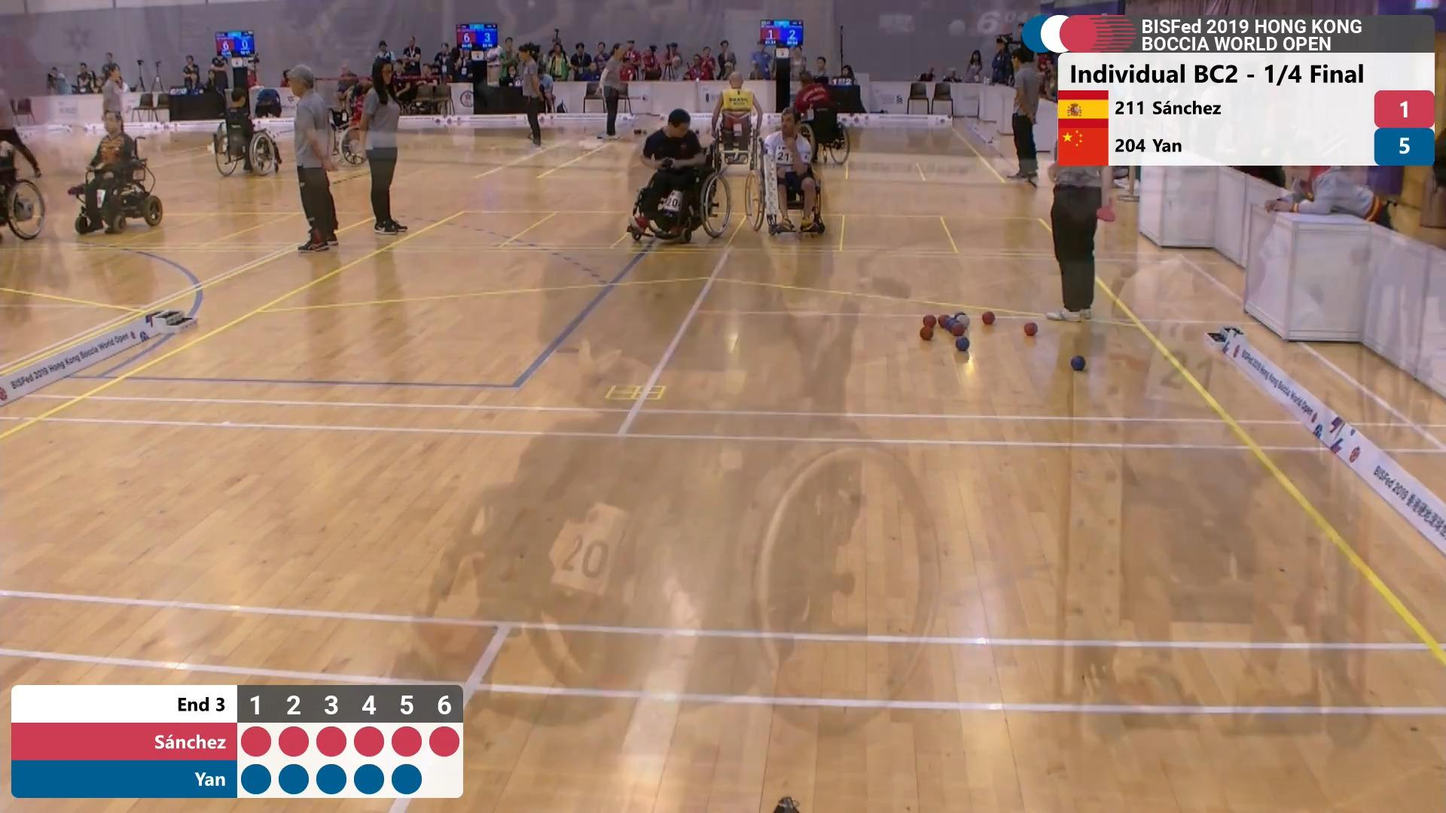blue_ball: (1070, 354, 1087, 372), (954, 335, 971, 352)
red_ball: (919, 325, 935, 341), (981, 310, 996, 325), (1024, 322, 1038, 337), (950, 323, 965, 336), (922, 315, 937, 327)
